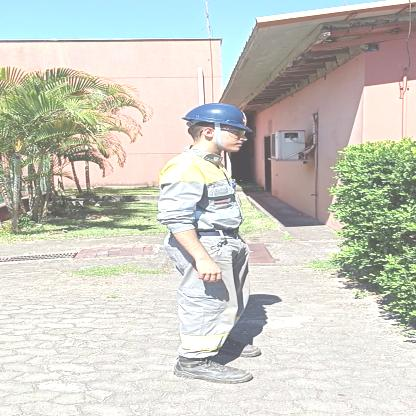Capacete: (193, 101, 249, 126)
